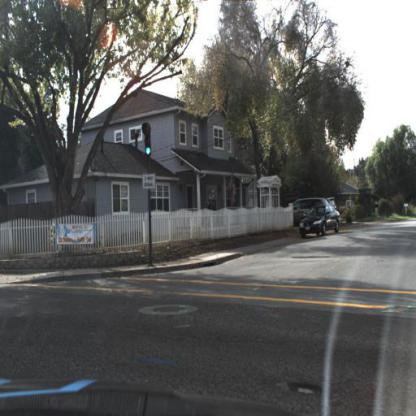car: (301, 205, 341, 238), (285, 198, 332, 226)
trafficLight: (141, 121, 155, 161)
